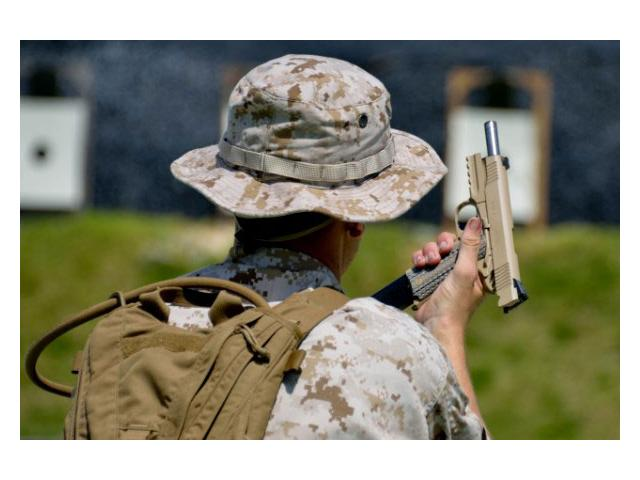pistol: (388, 110, 524, 325)
